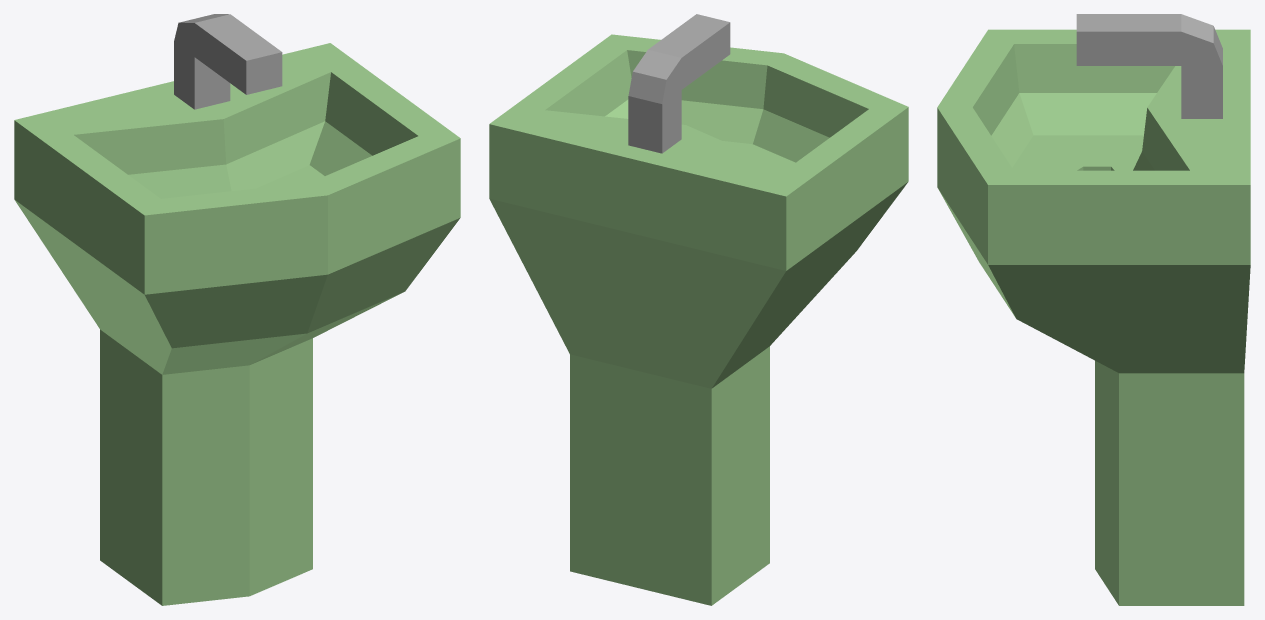
File: Sink.fbx
The picture shows the model from 3 angles, left to right: view 1: azimuth 30°, elevation 25°; view 2: azimuth 150°, elevation 25°; view 3: azimuth 270°, elevation 25°; orthographic projection. The views are drawn at different scales.
Parts seen in each view (by area): view 1: Sink; view 2: Sink; view 3: Sink.
Boxes of the visible parts, <box> form: Sink: <box>14,14,460,605</box>; Sink: <box>489,14,908,605</box>; Sink: <box>937,14,1250,605</box>.
Bounding box in the file's own units: 200 × 329 × 170.
